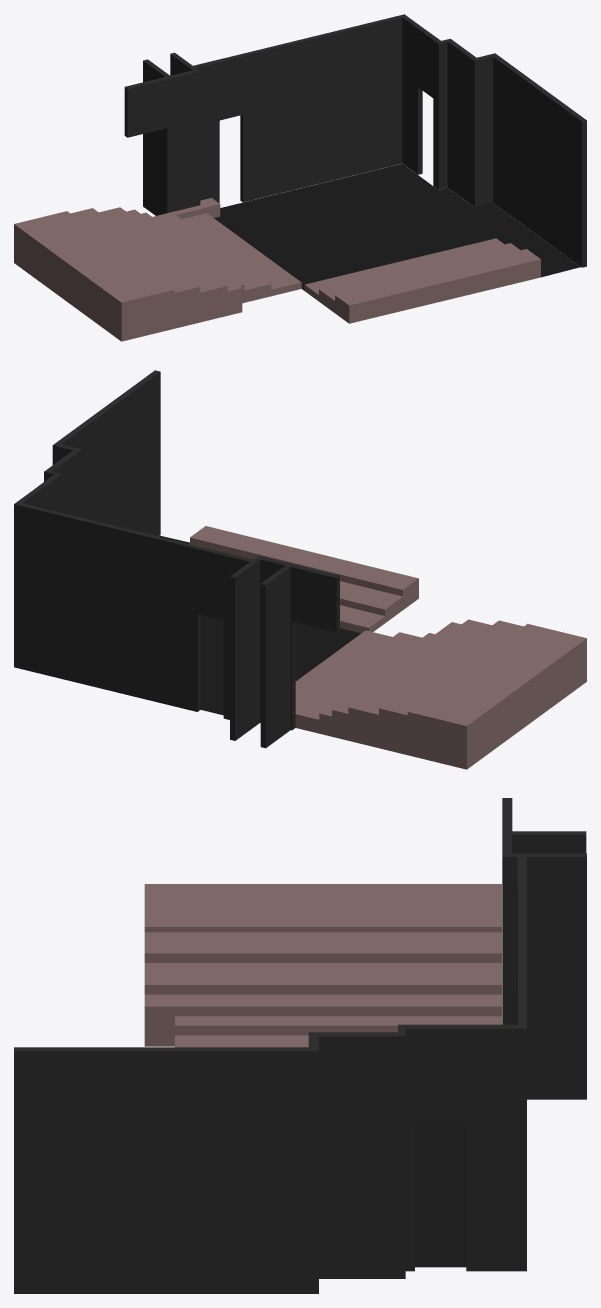
The model's file is b1_theater.glb.
The picture shows the model from 3 angles, top to bottom: view 1: azimuth 30°, elevation 25°; view 2: azimuth 150°, elevation 25°; view 3: azimuth 270°, elevation 25°; orthographic projection. The views are drawn at different scales.
Visible parts, largest first — view 1: StageBackWall, Floor; view 2: StageBackWall, Floor; view 3: StageBackWall, Floor.
Boxes of the visible parts, <box> form: StageBackWall: <box>124,14,586,267</box>; Floor: <box>14,163,580,341</box>; StageBackWall: <box>14,370,339,748</box>; Floor: <box>159,526,586,769</box>; StageBackWall: <box>14,798,586,1293</box>; Floor: <box>144,884,501,1267</box>.
Bounding box in the file's own units: 13.73 × 4.5 × 9.63.
